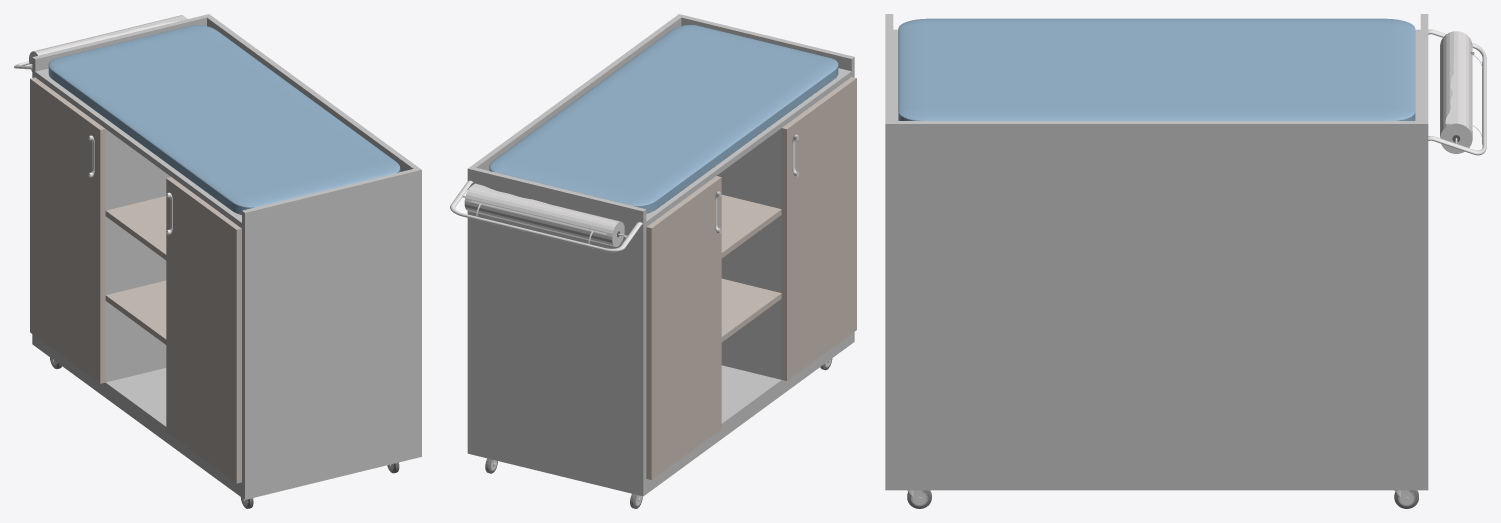
Rendered from Crib3.fbx.
The picture shows the model from 3 angles, left to right: view 1: azimuth 30°, elevation 25°; view 2: azimuth 150°, elevation 25°; view 3: azimuth 270°, elevation 25°; orthographic projection. The views are drawn at different scales.
Parts seen in each view (by area): view 1: Component_1_001, Group_001, Component_1_009, Component_1_010, Component_1_005, Group_002, Component_1_003, Component_1_004, Component_1_007, Component_1_008, Component_1_002, Group_007; view 2: Component_1_002, Group_001, Component_1_010, Component_1_009, Component_1_006, Group_002, Group_007, Component_1_003, Component_1_004, Component_1_007, Component_1_008, Component_1_001 (+1 smaller); view 3: Component_1_003, Group_001, Group_002, Component_1_001, Component_1_002, Group_007, Component_1_004, Group_005.
Part boxes in pixels (left/top/right/bottom): Component_1_001: left=242, top=167, right=421, bottom=484; Group_001: left=48, top=25, right=400, bottom=214; Component_1_009: left=166, top=177, right=241, bottom=483; Component_1_010: left=30, top=77, right=105, bottom=383; Component_1_005: left=105, top=129, right=170, bottom=382; Group_002: left=32, top=334, right=421, bottom=499; Component_1_003: left=207, top=16, right=418, bottom=171; Component_1_004: left=35, top=68, right=241, bottom=228; Component_1_007: left=105, top=280, right=166, bottom=344; Component_1_008: left=105, top=196, right=166, bottom=260; Component_1_002: left=32, top=14, right=211, bottom=77; Group_007: left=25, top=15, right=187, bottom=71; Component_1_002: left=467, top=166, right=646, bottom=480; Group_001: left=489, top=25, right=838, bottom=213; Component_1_010: left=646, top=176, right=721, bottom=480; Component_1_009: left=781, top=77, right=856, bottom=380; Component_1_006: left=716, top=128, right=781, bottom=379; Group_002: left=467, top=332, right=854, bottom=496; Group_007: left=461, top=183, right=627, bottom=246; Component_1_003: left=471, top=16, right=681, bottom=170; Component_1_004: left=489, top=68, right=851, bottom=226; Component_1_007: left=721, top=278, right=781, bottom=342; Component_1_008: left=721, top=194, right=781, bottom=258; Component_1_001: left=676, top=14, right=854, bottom=77; Component_1_003: left=893, top=121, right=1420, bottom=470; Group_001: left=898, top=18, right=1415, bottom=120; Group_002: left=885, top=470, right=1428, bottom=490; Component_1_001: left=885, top=14, right=893, bottom=470; Component_1_002: left=1420, top=14, right=1428, bottom=470; Group_007: left=1440, top=31, right=1472, bottom=153; Component_1_004: left=893, top=29, right=1420, bottom=120; Group_005: left=1428, top=29, right=1486, bottom=155.
Bounding box in the file's own units: 63.5 × 100 × 138.
